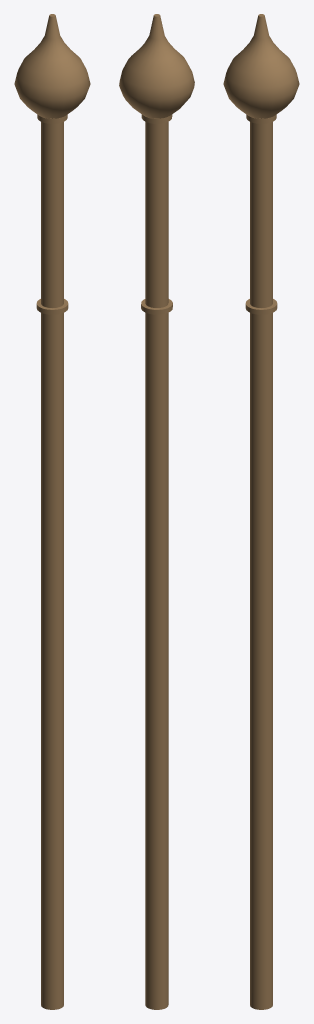
Rendered from Blowpipe.fbx.
The picture shows the model from 3 angles, left to right: view 1: azimuth 90°, elevation 25°; view 2: azimuth 150°, elevation 25°; view 3: azimuth 270°, elevation 25°; orthographic projection.
Parts seen in each view (by area): view 1: Blowpipe; view 2: Blowpipe; view 3: Blowpipe.
Boxes of the visible parts, box(x1,y1,x2,y2) form: Blowpipe: box(14, 14, 90, 1009); Blowpipe: box(119, 14, 194, 1009); Blowpipe: box(223, 14, 299, 1009).
Bounding box in the file's own units: 6.56 × 94.09 × 6.56.
